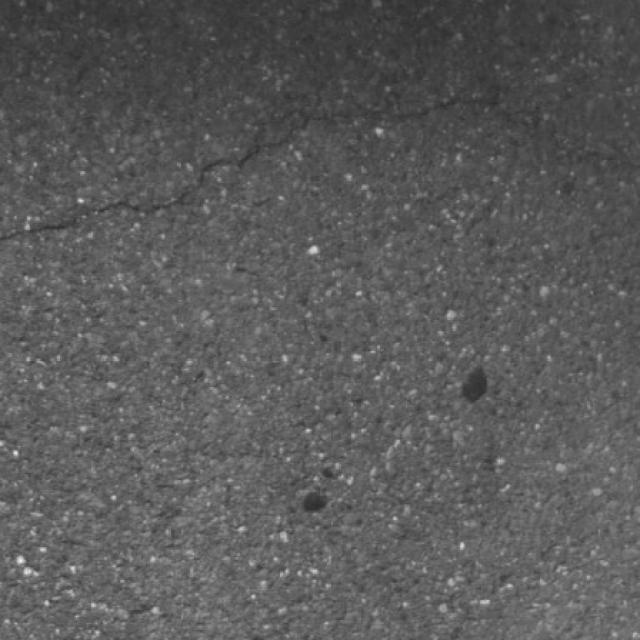Alligator Crack: (0, 45, 639, 241)
